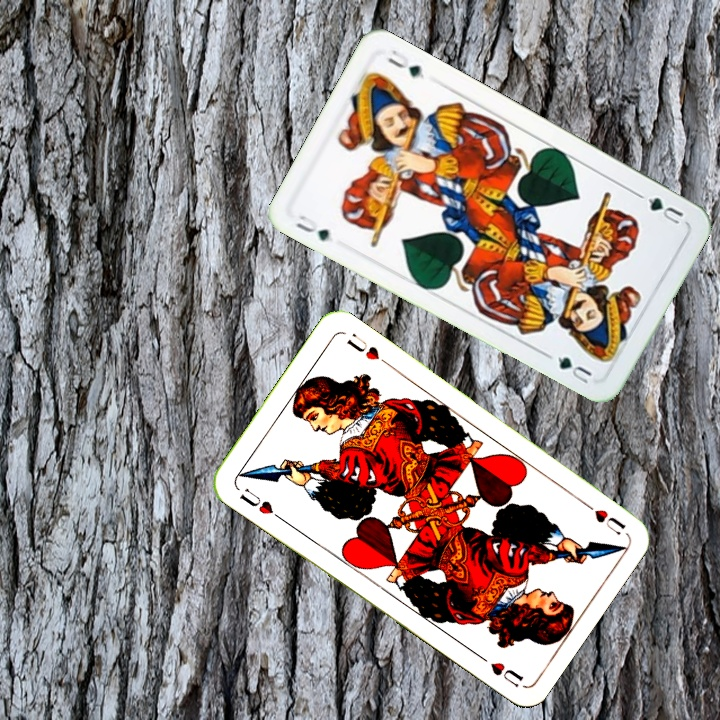GU: (643, 193, 686, 229), (291, 211, 332, 244)
HU: (577, 496, 628, 538), (235, 484, 285, 523)
